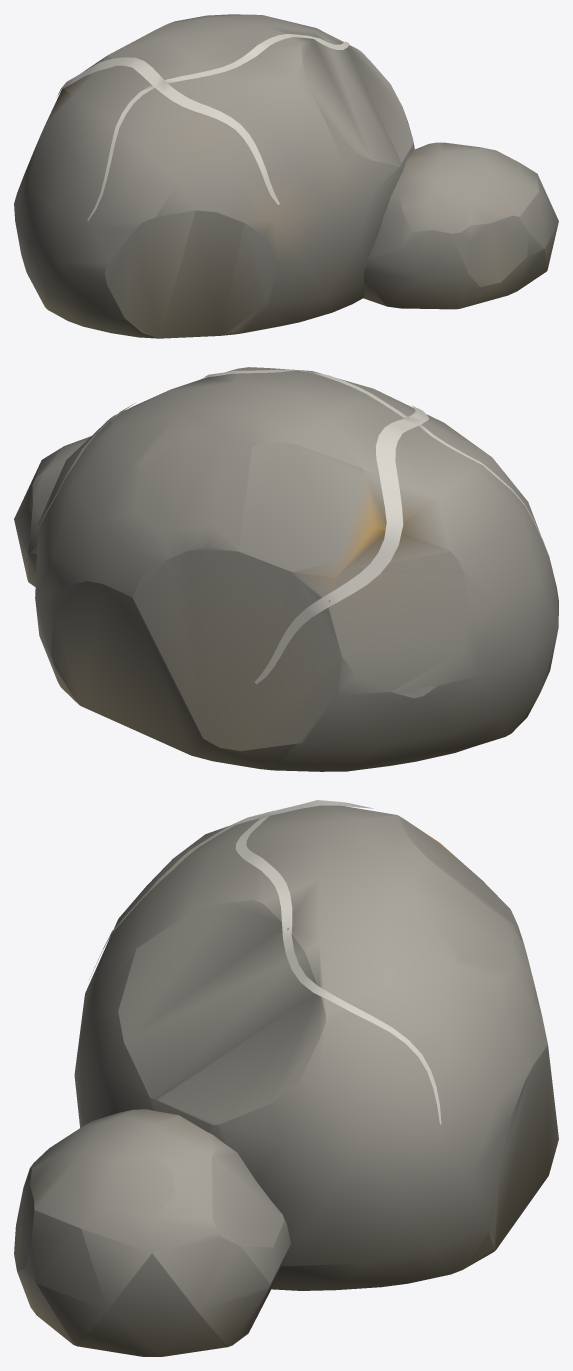
Rendered from beach_rock_a.glb.
3 renders of one model, top to bottom at view 1: azimuth 30°, elevation 25°; view 2: azimuth 150°, elevation 25°; view 3: azimuth 270°, elevation 25°, orthographic. The views are drawn at different scales.
Visible parts, largest first — view 1: beach_rock_a; view 2: beach_rock_a; view 3: beach_rock_a.
Part boxes in pixels (x1,y1,x2,y2): beach_rock_a: [14, 14, 558, 338]; beach_rock_a: [14, 367, 558, 771]; beach_rock_a: [14, 800, 558, 1356].
Size of the model in its own units: 1.8 by 0.8787 by 1.3.
